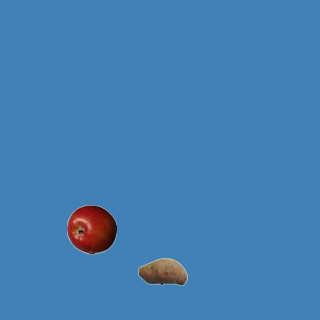Apple Braeburn: (66, 204, 116, 254)
Potato Sweet: (137, 246, 187, 296)
